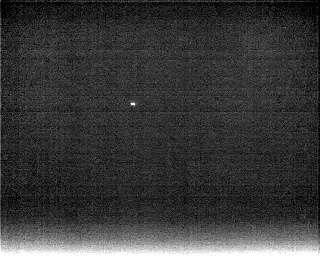AIRPLANE: (129, 100, 137, 108)
